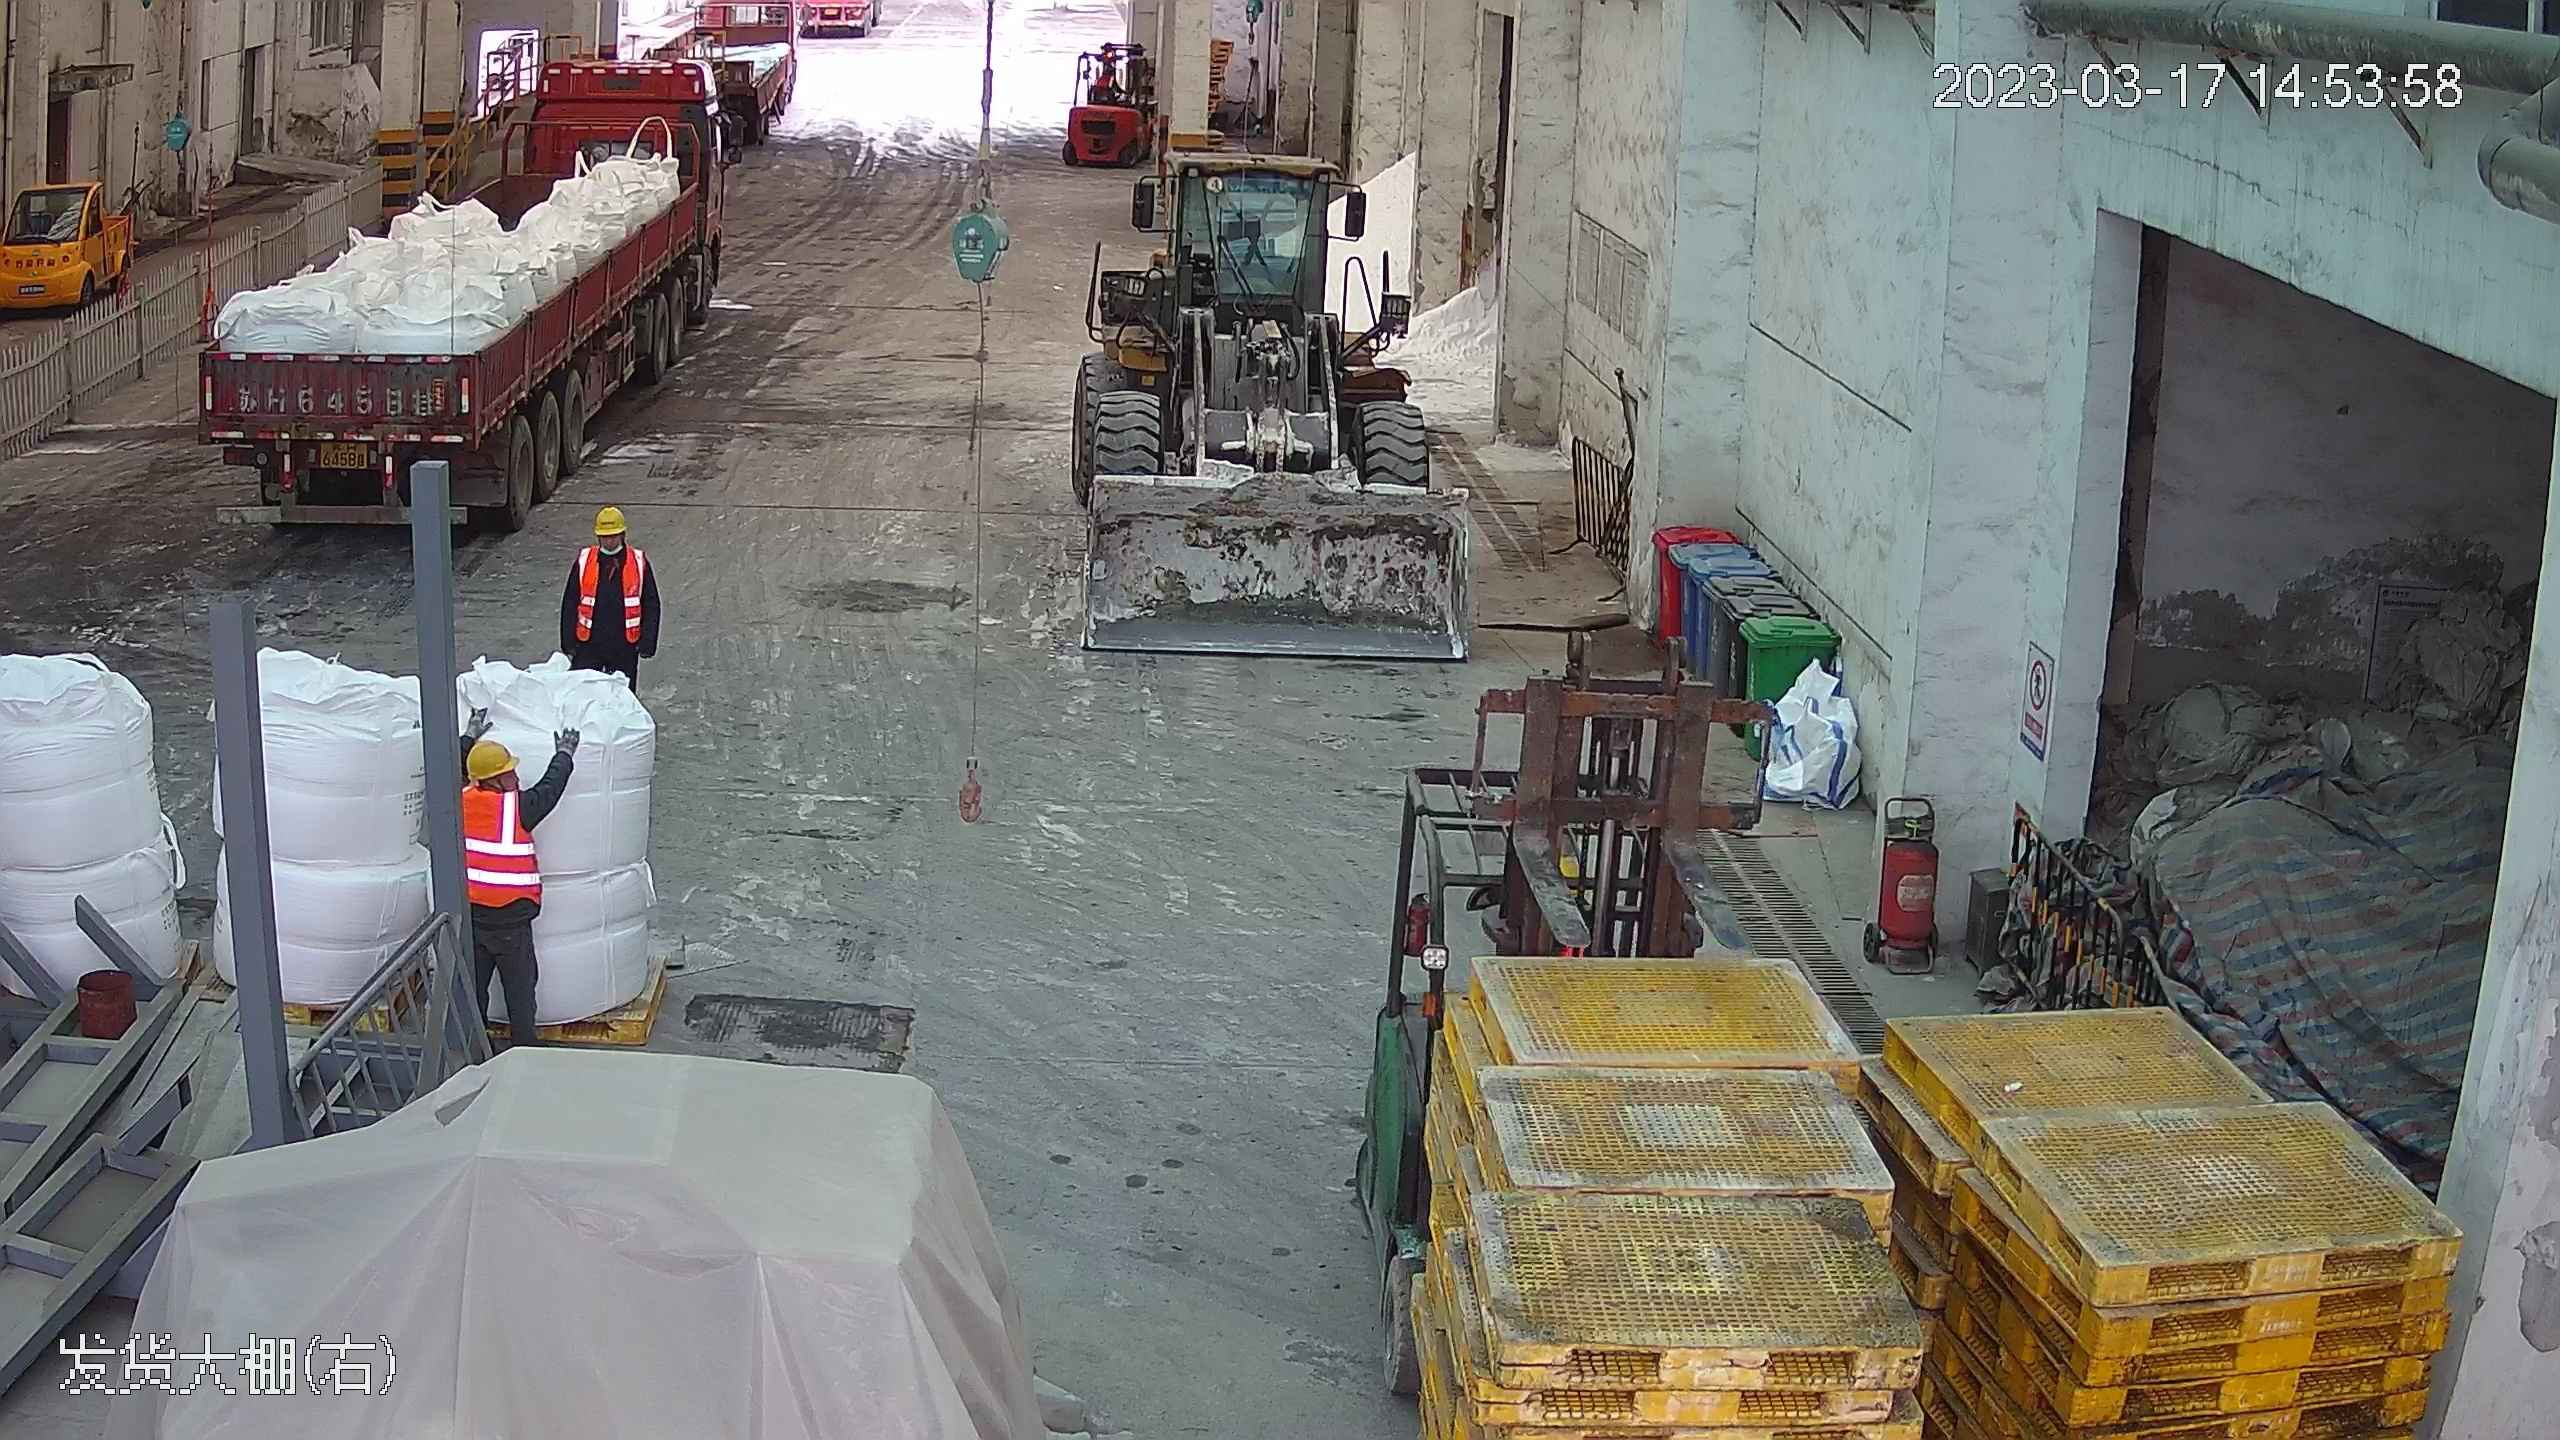head: (459, 734, 538, 836), (574, 501, 650, 580)
helmet: (466, 735, 521, 778), (593, 501, 630, 532)
people: (459, 728, 558, 1049), (566, 498, 659, 691)
truck: (177, 6, 736, 521)
